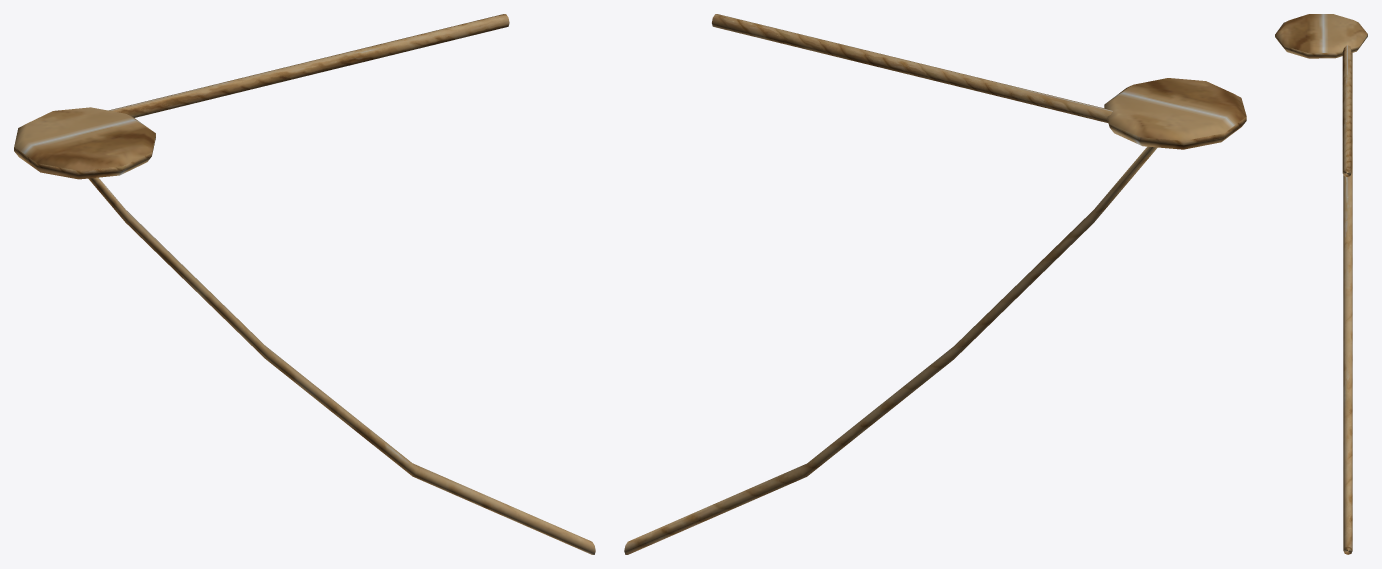
Rendered from Rope_Trellis.fbx.
The picture shows the model from 3 angles, left to right: view 1: azimuth 30°, elevation 25°; view 2: azimuth 150°, elevation 25°; view 3: azimuth 270°, elevation 25°; orthographic projection. The views are drawn at different scales.
Parts seen in each view (by area): view 1: Rope_Circle, Rope_02, Rope_01; view 2: Rope_Circle, Rope_02, Rope_01; view 3: Rope_02, Rope_Circle, Rope_01.
Boxes of the visible parts, bbox=[...] form: Rope_Circle: bbox=[14, 107, 155, 179]; Rope_02: bbox=[88, 177, 595, 554]; Rope_01: bbox=[108, 14, 509, 117]; Rope_Circle: bbox=[1104, 78, 1246, 149]; Rope_02: bbox=[624, 146, 1157, 554]; Rope_01: bbox=[712, 14, 1112, 122]; Rope_02: bbox=[1343, 53, 1352, 554]; Rope_Circle: bbox=[1275, 14, 1367, 58]; Rope_01: bbox=[1342, 45, 1351, 176].
Bounding box in the file's own units: 103 × 94.39 × 22.01.
